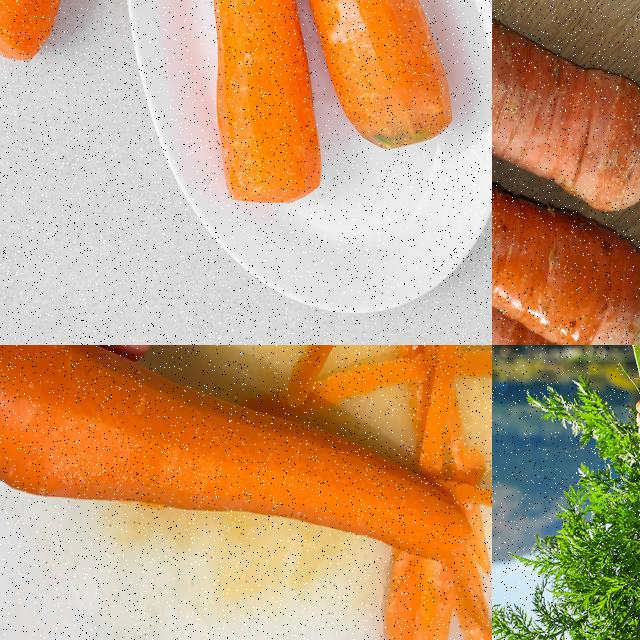carrot: (0, 345, 473, 564), (492, 67, 639, 344), (492, 0, 639, 212), (282, 0, 459, 156), (201, 0, 326, 207), (492, 59, 578, 344)
